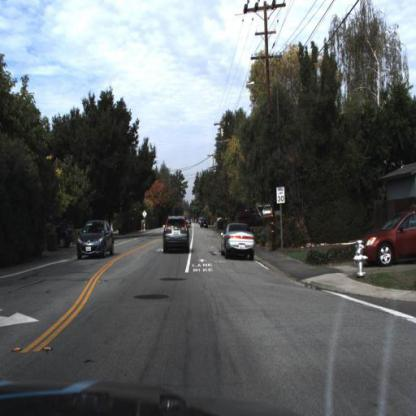car: (358, 206, 416, 270), (75, 216, 116, 261), (76, 219, 117, 260), (159, 213, 194, 259), (223, 224, 255, 262), (234, 206, 268, 226), (199, 214, 213, 232)
